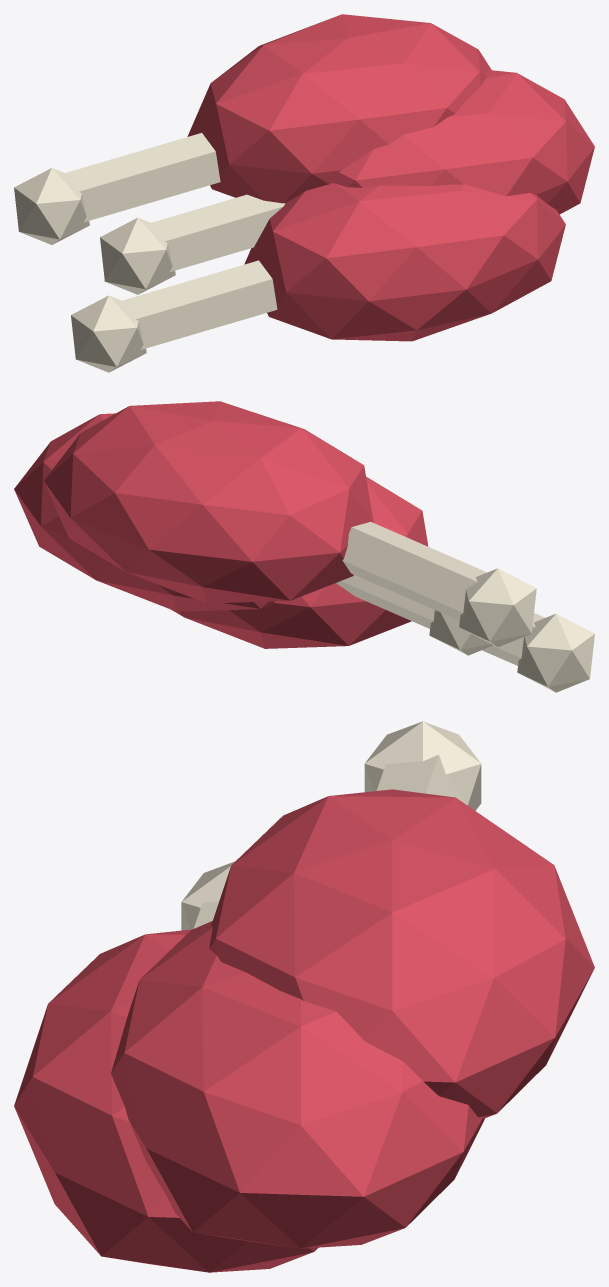
File: item_048_smoked_meat_m.glb
The picture shows the model from 3 angles, top to bottom: view 1: azimuth 30°, elevation 25°; view 2: azimuth 150°, elevation 25°; view 3: azimuth 270°, elevation 25°; orthographic projection. The views are drawn at different scales.
Visible parts, largest first — view 1: item_048_smoked_meat_m; view 2: item_048_smoked_meat_m; view 3: item_048_smoked_meat_m.
Part boxes in pixels (left/top/right/bottom): item_048_smoked_meat_m: left=14, top=14, right=594, bottom=372; item_048_smoked_meat_m: left=14, top=401, right=594, bottom=692; item_048_smoked_meat_m: left=14, top=721, right=594, bottom=1272.
Bounding box in the file's own units: 0.6383 × 0.2826 × 0.3808.
